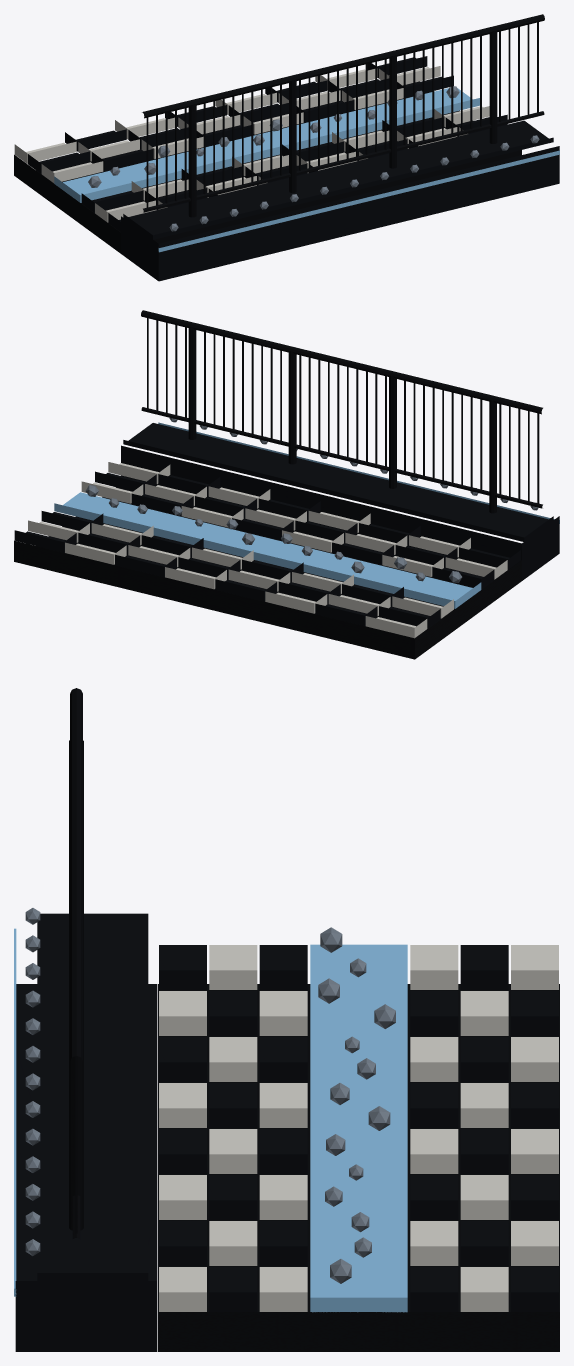
File: v2_edge.glb
3 renders of one model, top to bottom at view 1: azimuth 30°, elevation 25°; view 2: azimuth 150°, elevation 25°; view 3: azimuth 270°, elevation 25°, orthographic. The views are drawn at different scales.
Parts seen in each view (by area): view 1: Coping_Kerb, Guard_Frame, Pavers_A, Pavers_B, River_Inlay, Deck_Slab, Coping_Line, River_Pebbles, Kerb_Stones; view 2: Coping_Kerb, Guard_Frame, Pavers_B, Pavers_A, Deck_Slab, River_Inlay, River_Pebbles, Coping_Line; view 3: Coping_Kerb, Pavers_A, Pavers_B, River_Inlay, Deck_Slab, Guard_Frame, River_Pebbles, Kerb_Stones, Coping_Line.
Part boxes in pixels (<box>): Coping_Kerb: <box>121,120,559,281</box>; Guard_Frame: <box>142,14,544,217</box>; Pavers_A: <box>14,66,489,222</box>; Pavers_B: <box>28,56,507,231</box>; River_Inlay: <box>54,88,479,202</box>; Deck_Slab: <box>14,81,521,253</box>; Coping_Line: <box>158,150,559,252</box>; River_Pebbles: <box>88,86,459,187</box>; Kerb_Stones: <box>169,135,539,231</box>; Coping_Kerb: <box>121,423,559,580</box>; Guard_Frame: <box>141,310,542,513</box>; Pavers_B: <box>14,471,520,628</box>; Pavers_A: <box>28,462,507,638</box>; Deck_Slab: <box>14,487,521,659</box>; River_Inlay: <box>54,492,481,608</box>; River_Pebbles: <box>85,485,462,582</box>; Coping_Line: <box>158,422,559,523</box>; Coping_Kerb: <box>15,913,156,1351</box>; Pavers_A: <box>159,945,558,1311</box>; Pavers_B: <box>159,945,558,1311</box>; River_Inlay: <box>310,944,407,1312</box>; Deck_Slab: <box>157,984,559,1351</box>; Guard_Frame: <box>69,688,83,1238</box>; River_Pebbles: <box>318,927,395,1283</box>; Kerb_Stones: <box>25,908,40,1255</box>; Coping_Line: <box>14,928,16,1296</box>.
Size of what is drawn, in the model's own units: 4 by 1.5 by 2.51.
5 materials, 3 textured.
